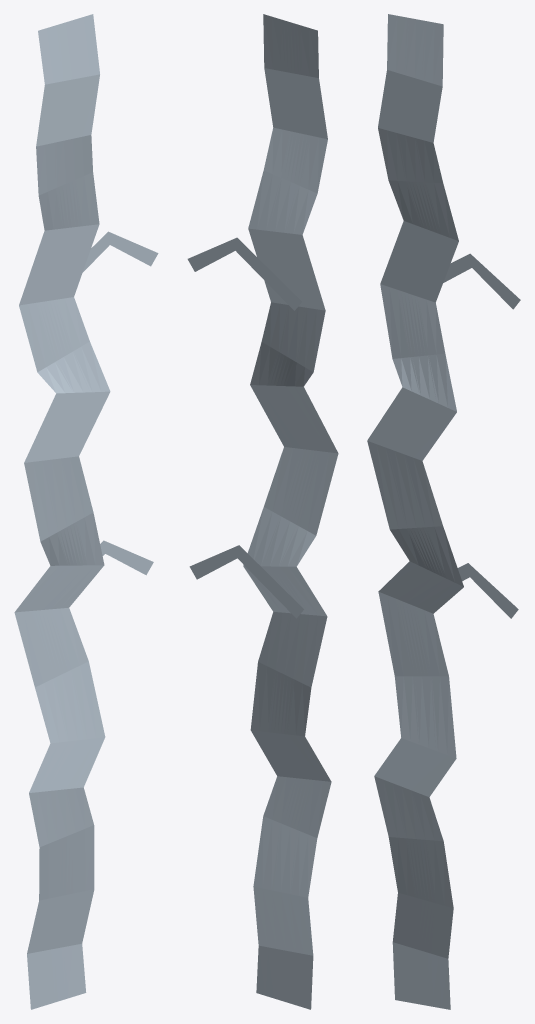
The model's file is Fischl_OzAttack_TargetLightning_TargetFallingBolt25.fbx.
The picture shows the model from 3 angles, left to right: view 1: azimuth 30°, elevation 25°; view 2: azimuth 150°, elevation 25°; view 3: azimuth 330°, elevation 25°; orthographic projection.
Visible parts, largest first — view 1: PART_TargetFallingBolt25_VioletCorona, PART_TargetFallingBolt25_SharpWhiteVioletCore, PART_TargetFallingBolt25_ShortFork_5, PART_TargetFallingBolt25_ShortFork_11; view 2: PART_TargetFallingBolt25_VioletCorona, PART_TargetFallingBolt25_SharpWhiteVioletCore, PART_TargetFallingBolt25_ShortFork_5, PART_TargetFallingBolt25_ShortFork_11; view 3: PART_TargetFallingBolt25_VioletCorona, PART_TargetFallingBolt25_SharpWhiteVioletCore, PART_TargetFallingBolt25_ShortFork_5, PART_TargetFallingBolt25_ShortFork_11.
Part boxes in pixels (<box>): PART_TargetFallingBolt25_VioletCorona: <box>14,14,110,1009</box>; PART_TargetFallingBolt25_SharpWhiteVioletCore: <box>32,19,92,1003</box>; PART_TargetFallingBolt25_ShortFork_5: <box>82,231,158,272</box>; PART_TargetFallingBolt25_ShortFork_11: <box>100,540,153,575</box>; PART_TargetFallingBolt25_VioletCorona: <box>243,14,338,1009</box>; PART_TargetFallingBolt25_SharpWhiteVioletCore: <box>261,19,321,1004</box>; PART_TargetFallingBolt25_ShortFork_5: <box>187,237,301,310</box>; PART_TargetFallingBolt25_ShortFork_11: <box>189,545,303,618</box>; PART_TargetFallingBolt25_VioletCorona: <box>367,14,463,1009</box>; PART_TargetFallingBolt25_SharpWhiteVioletCore: <box>385,17,446,1006</box>; PART_TargetFallingBolt25_ShortFork_5: <box>443,253,520,309</box>; PART_TargetFallingBolt25_ShortFork_11: <box>457,563,518,618</box>.
Bounding box in the file's own units: 25.19 × 166 × 3.64.
